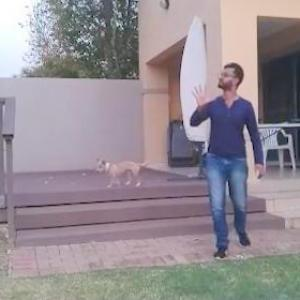follow_hand: (188, 80, 218, 112)
